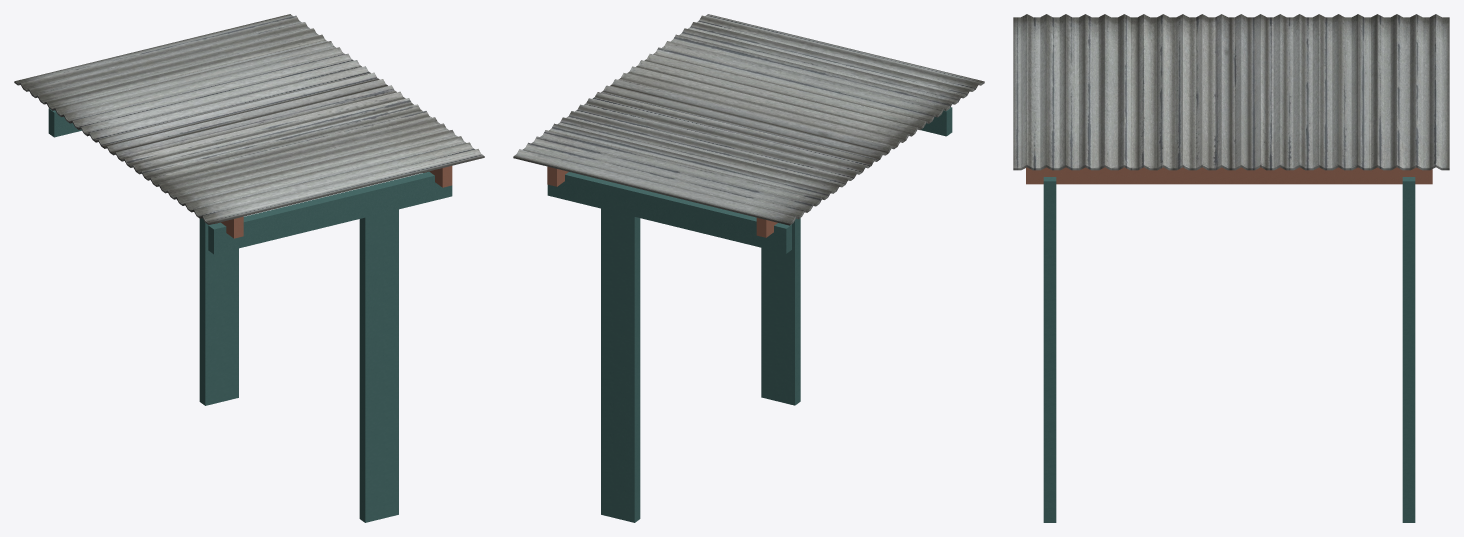
Rendered from ponto cmtc cimento.fbx.
The picture shows the model from 3 angles, left to right: view 1: azimuth 30°, elevation 25°; view 2: azimuth 150°, elevation 25°; view 3: azimuth 270°, elevation 25°; orthographic projection. The views are drawn at different scales.
Parts seen in each view (by area): view 1: telhado, base verde, base laranja; view 2: telhado, base verde, base laranja; view 3: telhado, base verde, base laranja.
Boxes of the visible parts, <box> form: telhado: <box>14,14,484,224</box>; base verde: <box>48,108,452,522</box>; base laranja: <box>214,166,452,238</box>; telhado: <box>513,14,984,225</box>; base verde: <box>547,107,952,522</box>; base laranja: <box>547,166,777,237</box>; telhado: <box>1013,14,1449,170</box>; base verde: <box>1043,177,1415,522</box>; base laranja: <box>1026,167,1432,184</box>.
Bounding box in the file's own units: 2.95 × 3.61 × 3.59.
